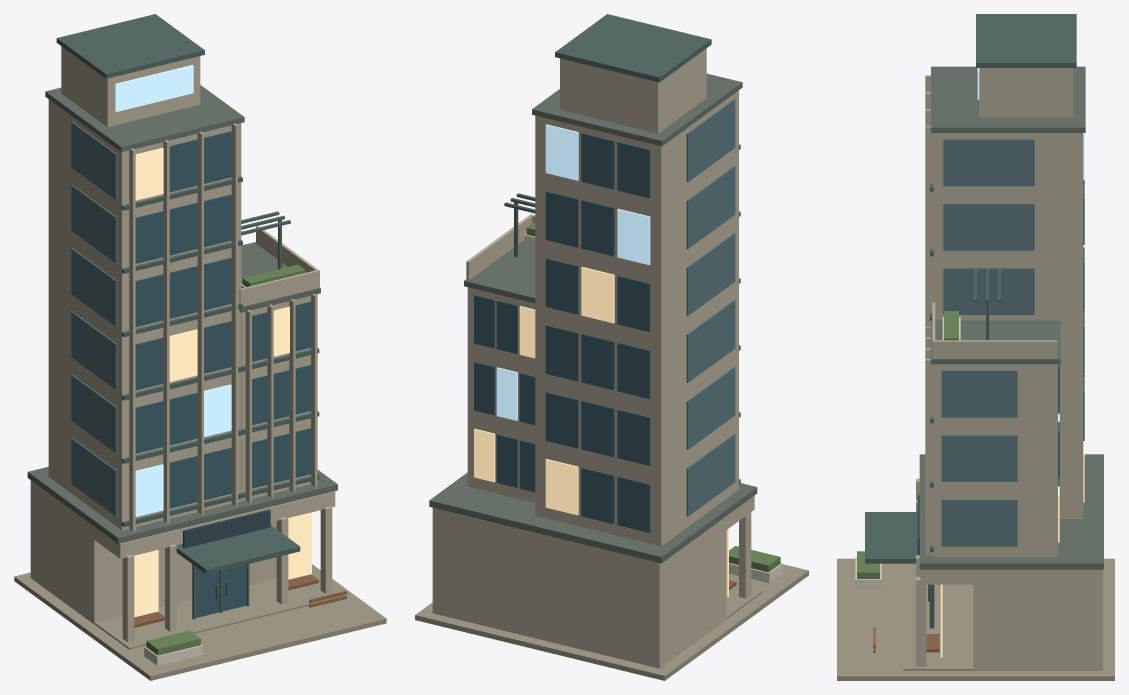
File: office_lod.glb
The picture shows the model from 3 angles, left to right: view 1: azimuth 30°, elevation 25°; view 2: azimuth 150°, elevation 25°; view 3: azimuth 270°, elevation 25°; orthographic projection. The views are drawn at different scales.
Visible parts, largest first — view 1: office_Main_Tower_Stone_Core, office_Podium_Back, office_Forecourt, office_Crown_Screen_Cap, office_Main_Tower_Roof_Coping, office_Inset_Crown, office_Lobby_Floor, office_Podium_Coping, office_Arrival_Canopy, office_East_Wing_Stone_Core, office_Lobby_Soffit, office_Continuous_Stone_Fin (+61 smaller); view 2: office_Main_Tower_Stone_Core, office_Podium_Back, office_Inset_Crown, office_Podium_Coping, office_Crown_Screen_Cap, office_Forecourt, office_East_Wing_Stone_Core, office_Main_Tower_Roof_Coping, office_East_Wing_Roof_Coping, office_Corner_Return_Glass.010, office_Corner_Return_Glass.002, office_Corner_Return_Glass.006 (+33 smaller); view 3: office_Main_Tower_Stone_Core, office_East_Wing_Stone_Core, office_Podium_Back, office_Forecourt, office_Podium_Coping, office_Main_Tower_Roof_Coping, office_Crown_Screen_Cap, office_Lobby_Floor, office_Inset_Crown, office_Corner_Return_Glass.009, office_Corner_Return_Glass.011, office_Corner_Return_Glass.007 (+12 smaller).
Part boxes in pixels (box(x1,y1,x2,y2)): office_Main_Tower_Stone_Core: box(48, 99, 241, 530); office_Podium_Back: box(30, 480, 276, 624); office_Forecourt: box(14, 564, 386, 680); office_Crown_Screen_Cap: box(56, 14, 204, 78); office_Main_Tower_Roof_Coping: box(45, 85, 244, 151); office_Inset_Crown: box(61, 46, 200, 127); office_Lobby_Floor: box(94, 573, 342, 649); office_Podium_Coping: box(27, 466, 337, 543); office_Arrival_Canopy: box(176, 525, 300, 574); office_East_Wing_Stone_Core: box(241, 294, 317, 501); office_Lobby_Soffit: box(93, 491, 335, 558); office_Continuous_Stone_Fin: box(129, 148, 135, 531); office_Main_Tower_Stone_Core: box(535, 90, 738, 546); office_Podium_Back: box(432, 507, 726, 668); office_Inset_Crown: box(560, 48, 706, 133); office_Podium_Coping: box(429, 472, 757, 563); office_Crown_Screen_Cap: box(555, 14, 711, 82); office_Forecourt: box(415, 564, 808, 680); office_East_Wing_Stone_Core: box(467, 287, 535, 502); office_Main_Tower_Roof_Coping: box(532, 73, 742, 146); office_East_Wing_Roof_Coping: box(464, 240, 535, 303); office_Corner_Return_Glass.010: box(686, 99, 735, 182); office_Corner_Return_Glass.002: box(686, 367, 735, 449); office_Corner_Return_Glass.006: box(686, 233, 735, 315); office_Main_Tower_Stone_Core: box(933, 133, 1083, 518); office_East_Wing_Stone_Core: box(933, 364, 1057, 556); office_Podium_Back: box(973, 569, 1102, 670); office_Forecourt: box(837, 558, 1114, 680); office_Podium_Coping: box(919, 454, 1103, 569); office_Main_Tower_Roof_Coping: box(931, 66, 1085, 132); office_Crown_Screen_Cap: box(976, 14, 1076, 67); office_Lobby_Floor: box(903, 563, 973, 670); office_Inset_Crown: box(979, 68, 1073, 117); office_Corner_Return_Glass.009: box(943, 203, 1034, 250); office_Corner_Return_Glass.011: box(943, 139, 1034, 186); office_Corner_Return_Glass.007: box(943, 268, 1034, 314).
Bounding box in the file's own units: 11.6 × 25.86 × 11.6.
